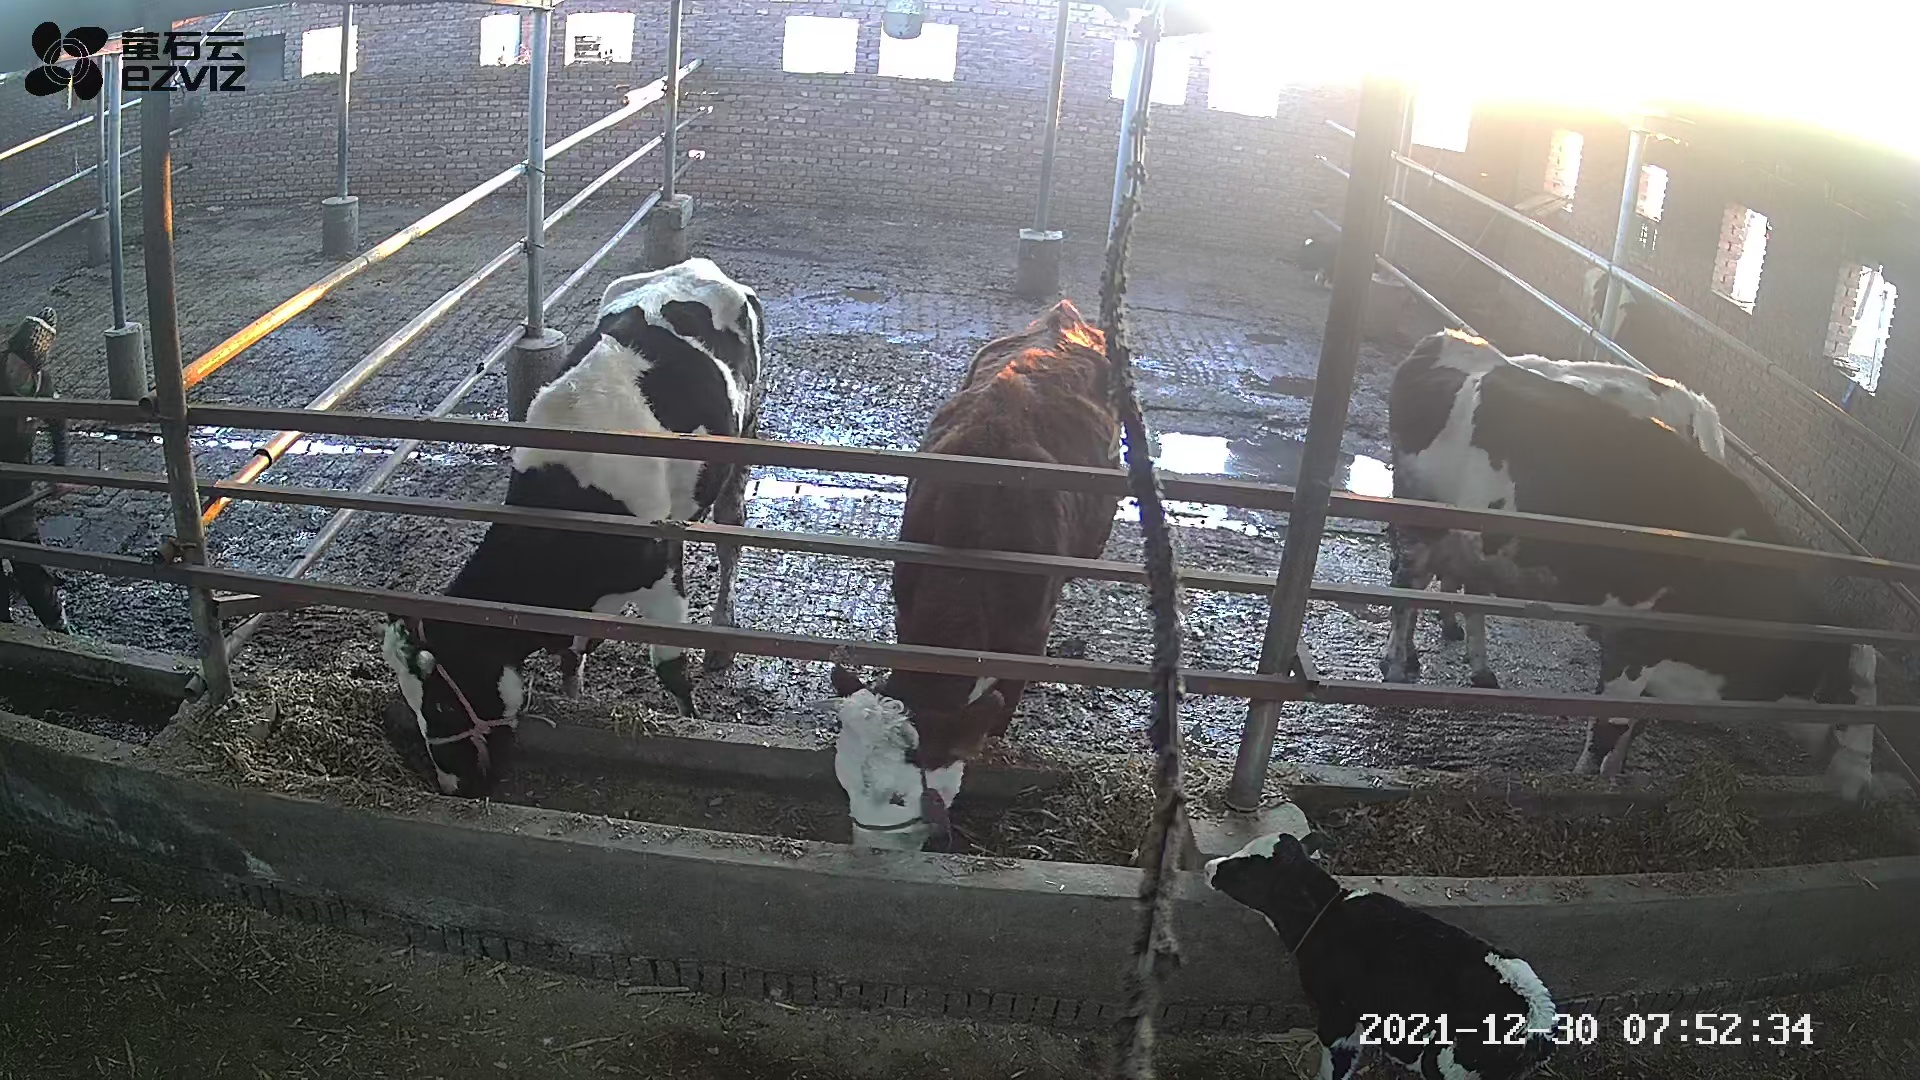cow: (1379, 324, 1878, 810), (378, 255, 764, 798), (829, 301, 1121, 856), (1433, 353, 1727, 690)
